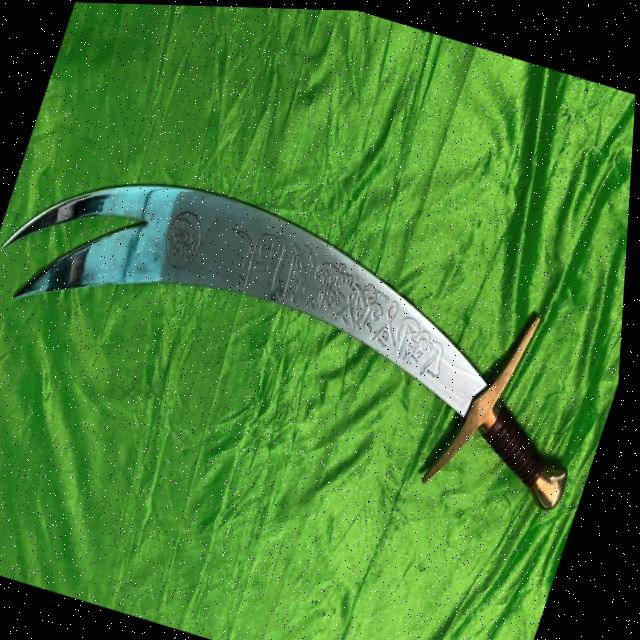knife: (0, 127, 634, 525)
